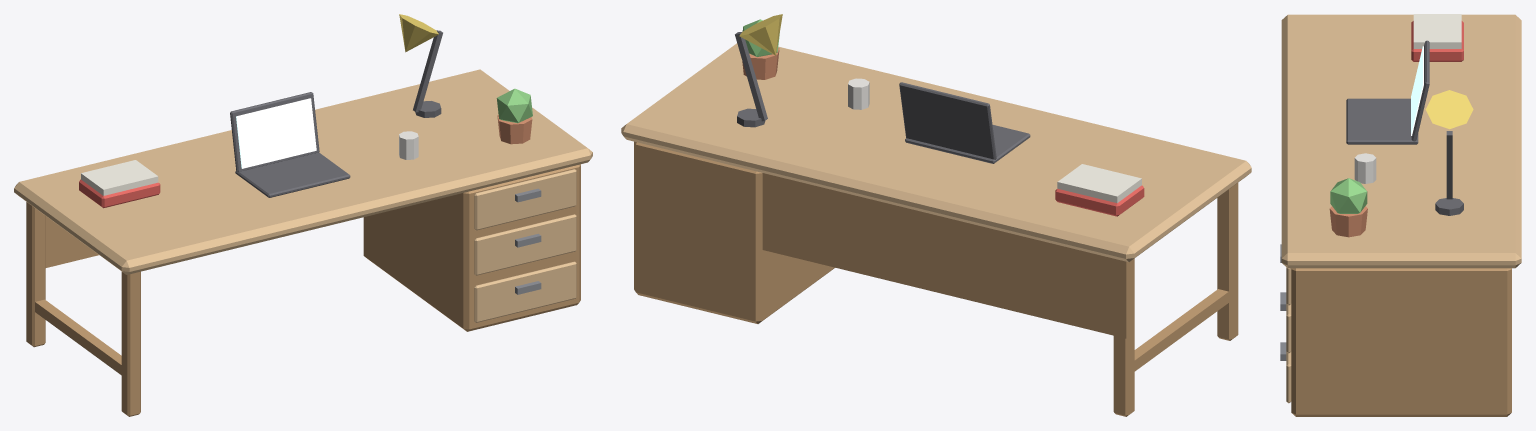
The model's file is prop_desk_01.glb.
The picture shows the model from 3 angles, left to right: view 1: azimuth 30°, elevation 25°; view 2: azimuth 150°, elevation 25°; view 3: azimuth 270°, elevation 25°; orthographic projection. The views are drawn at different scales.
Parts seen in each view (by area): view 1: prop_desk_01_body; view 2: prop_desk_01_body; view 3: prop_desk_01_body.
Boxes of the visible parts, x1,y1,x2,y2 form: prop_desk_01_body: (14,14,592,416); prop_desk_01_body: (621,14,1251,416); prop_desk_01_body: (1280,14,1521,416).
Size of the model in its own units: 2.4 by 1.27 by 1.
